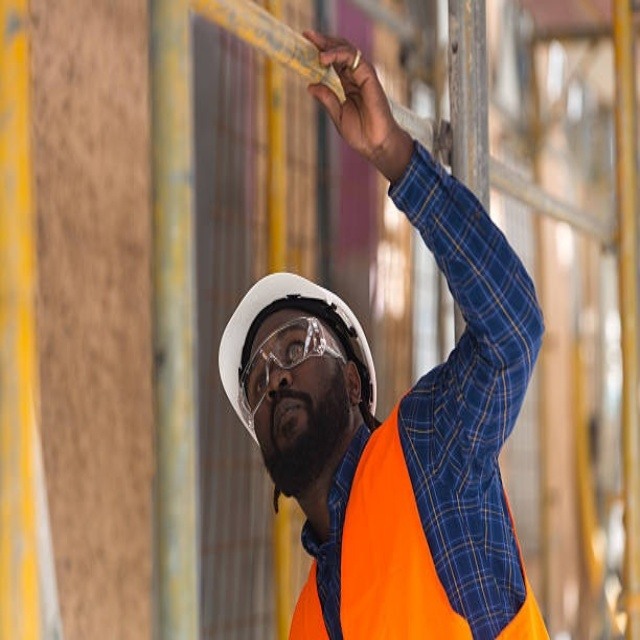Gafas: (239, 314, 349, 424)
Sin_guantes: (301, 29, 396, 170)
Sin_mascara: (266, 397, 315, 445)
